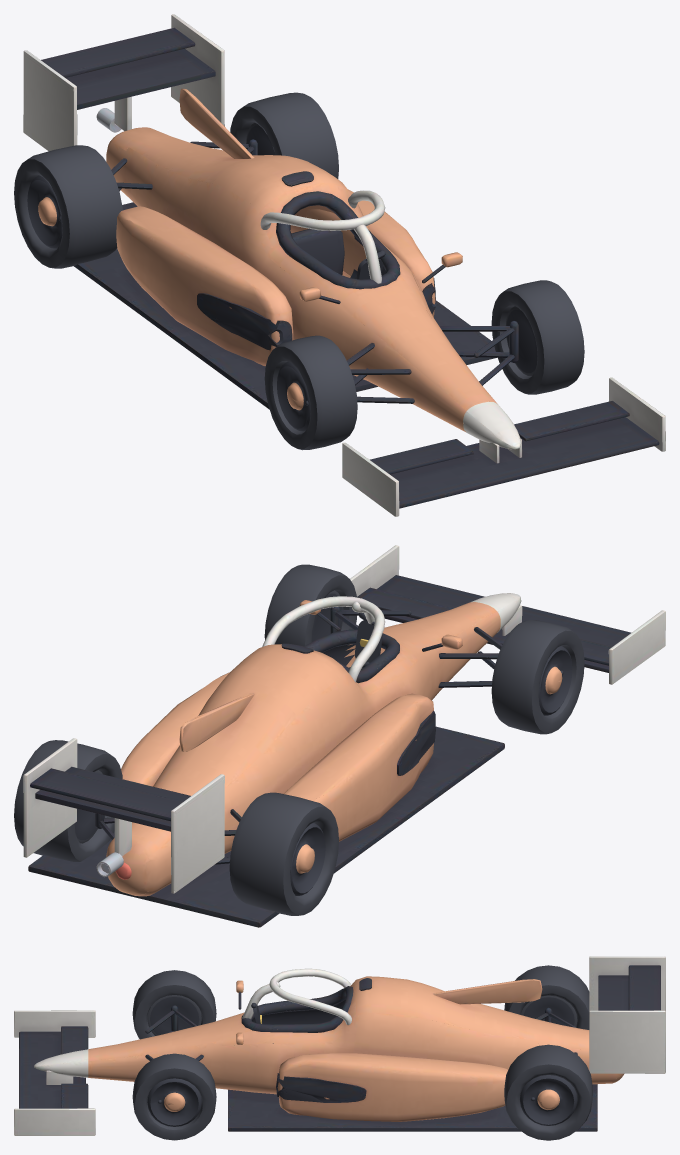
File: coche_carreras.glb
3 renders of one model, top to bottom at view 1: azimuth 30°, elevation 25°; view 2: azimuth 150°, elevation 25°; view 3: azimuth 270°, elevation 25°, orthographic. The views are drawn at different scales.
Parts seen in each view (by area): view 1: race-car_body; view 2: race-car_body; view 3: race-car_body.
Part boxes in pixels (x1,y1,x2,y2): race-car_body: (14, 14, 665, 516); race-car_body: (14, 545, 665, 927); race-car_body: (14, 956, 665, 1140).
Size of the model in its own units: 1.92 by 1.02 by 5.28.
20 materials, 1 textured.
